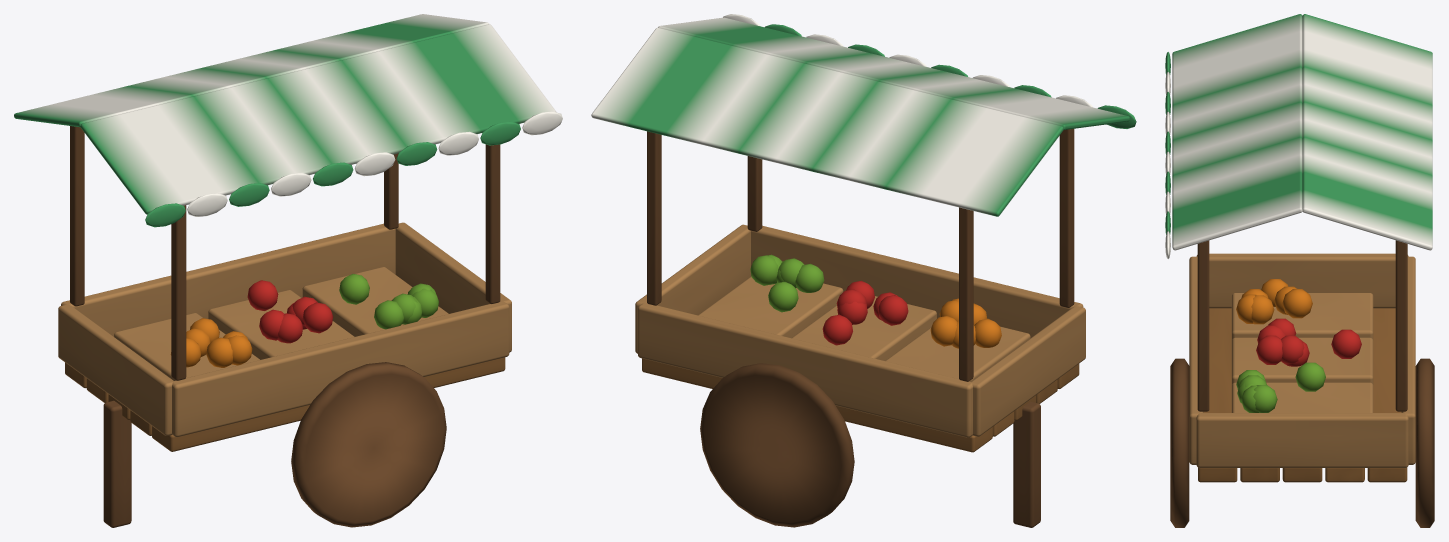
The model's file is cart.glb.
3 renders of one model, left to right at view 1: azimuth 30°, elevation 25°; view 2: azimuth 150°, elevation 25°; view 3: azimuth 270°, elevation 25°, orthographic. The views are drawn at different scales.
Visible parts, largest first — view 1: cart_main, cart_awning; view 2: cart_main, cart_awning; view 3: cart_main, cart_awning.
Part boxes in pixels (x1,y1,x2,y2): cart_main: [58, 126, 511, 527]; cart_awning: [14, 14, 562, 227]; cart_main: [635, 129, 1085, 527]; cart_awning: [591, 14, 1136, 216]; cart_main: [1170, 240, 1434, 527]; cart_awning: [1165, 14, 1432, 258].
Bounding box in the file's own units: 1.99 × 1.87 × 1.14.
